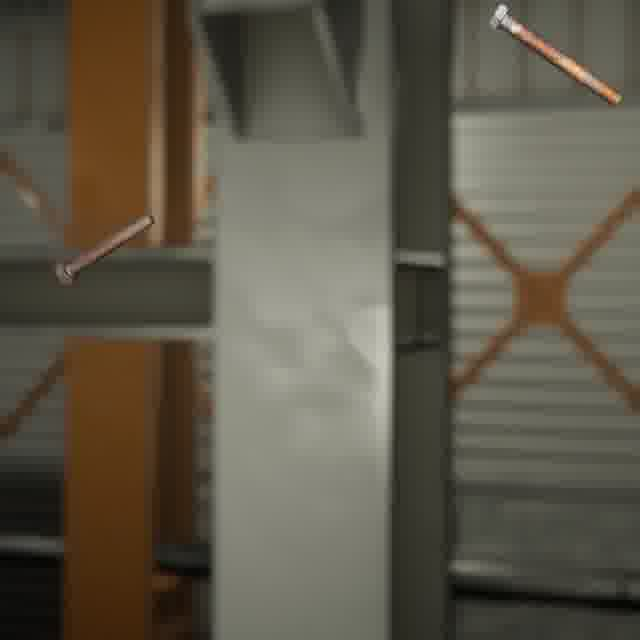bolt: (483, 0, 627, 110), (51, 208, 159, 289)
